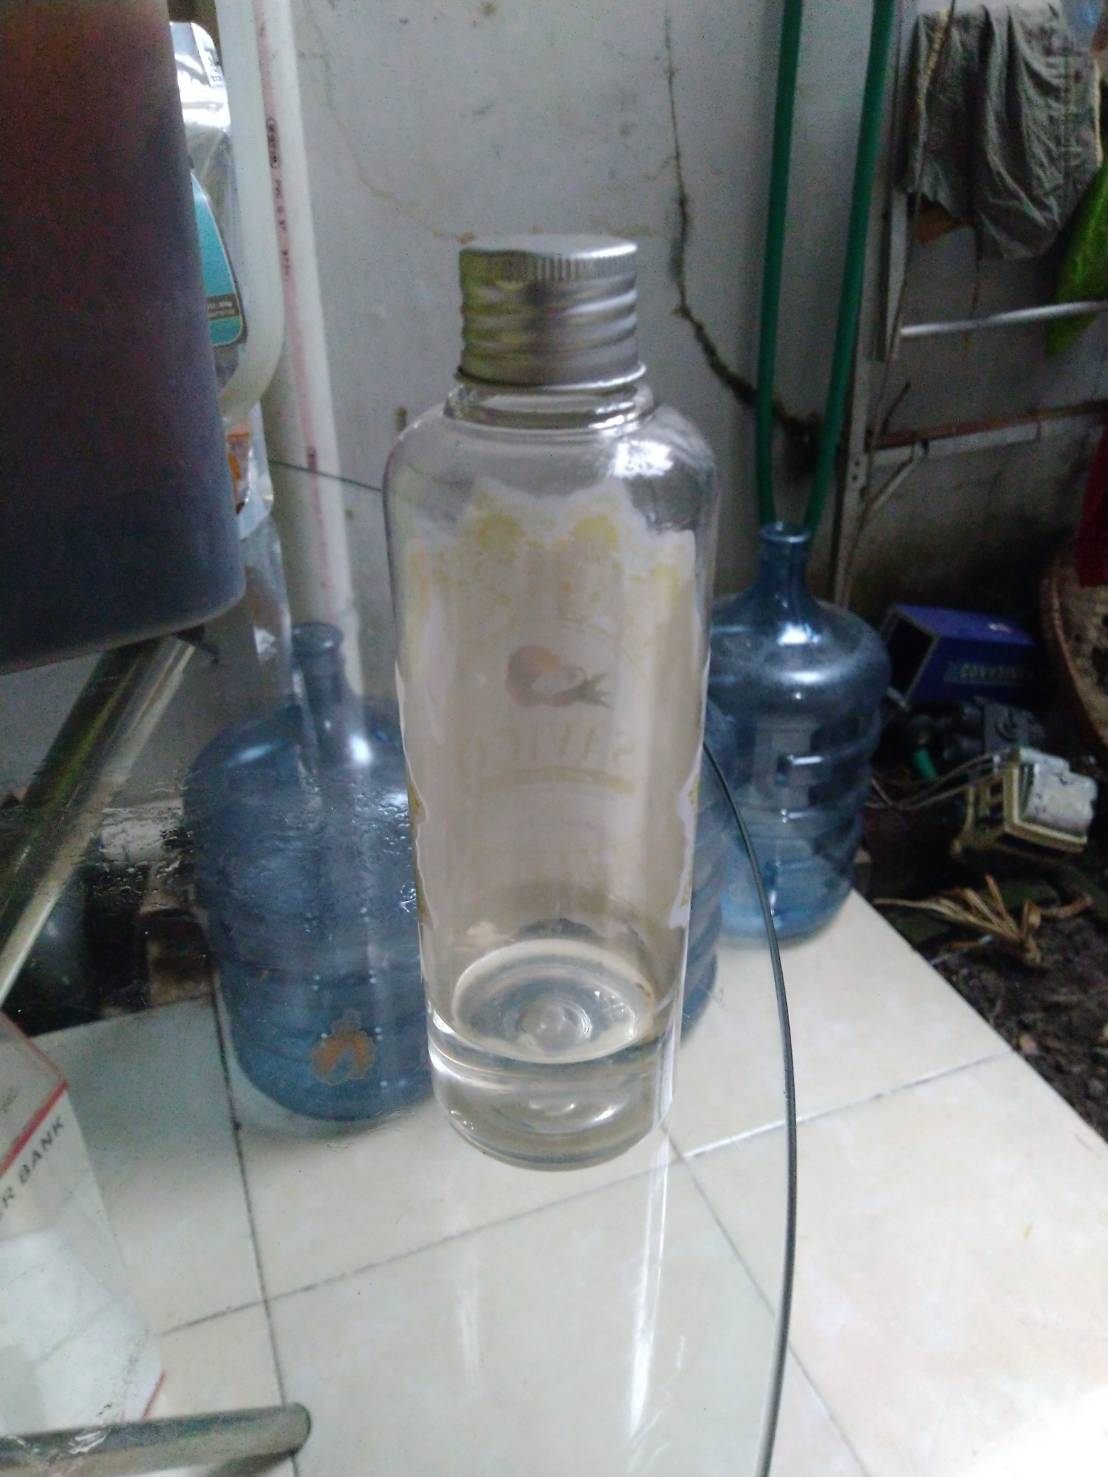PET: (386, 396, 720, 1172)
